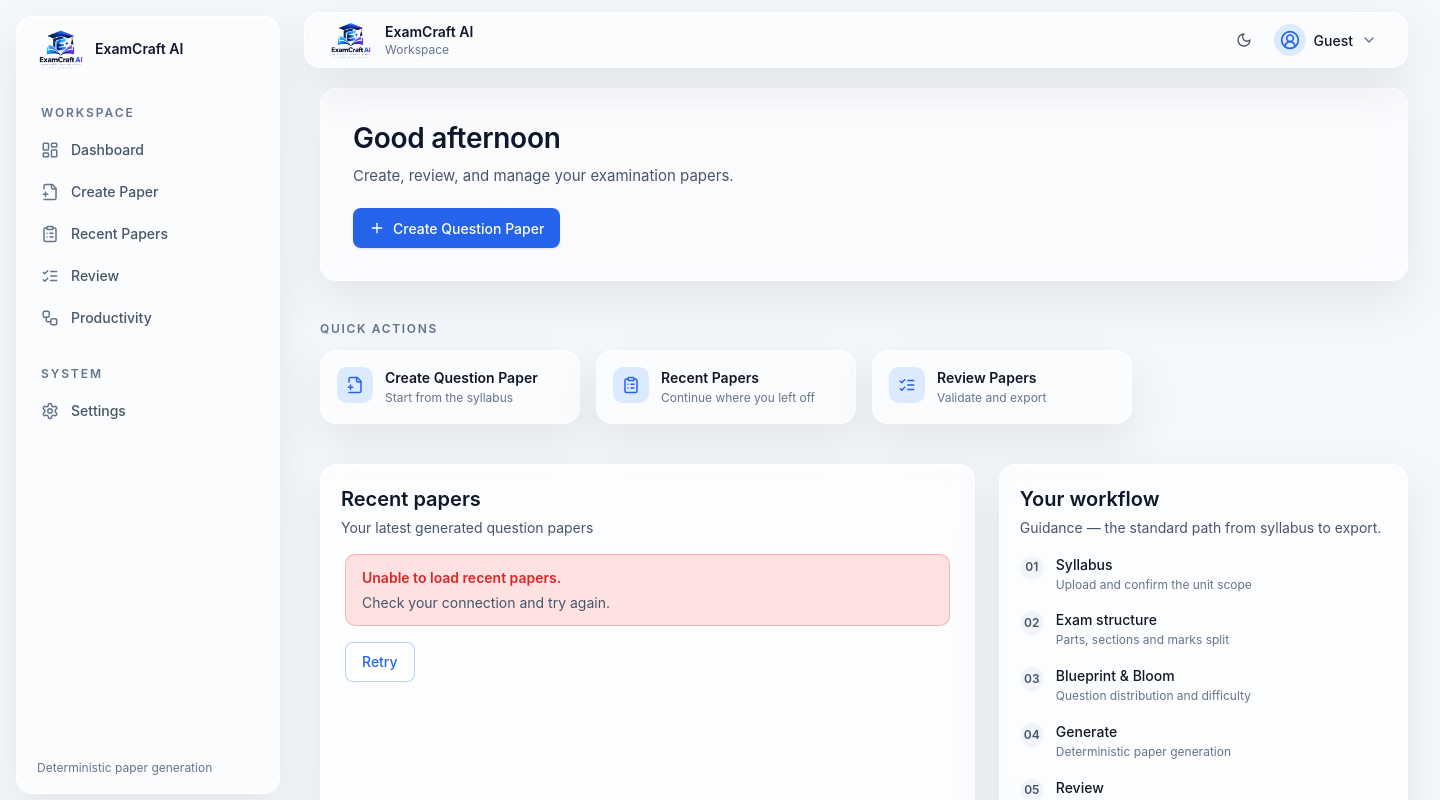
Test: retry after API failure loads the papers
Click the button "Retry" at (380, 662), box [345,642,415,682]
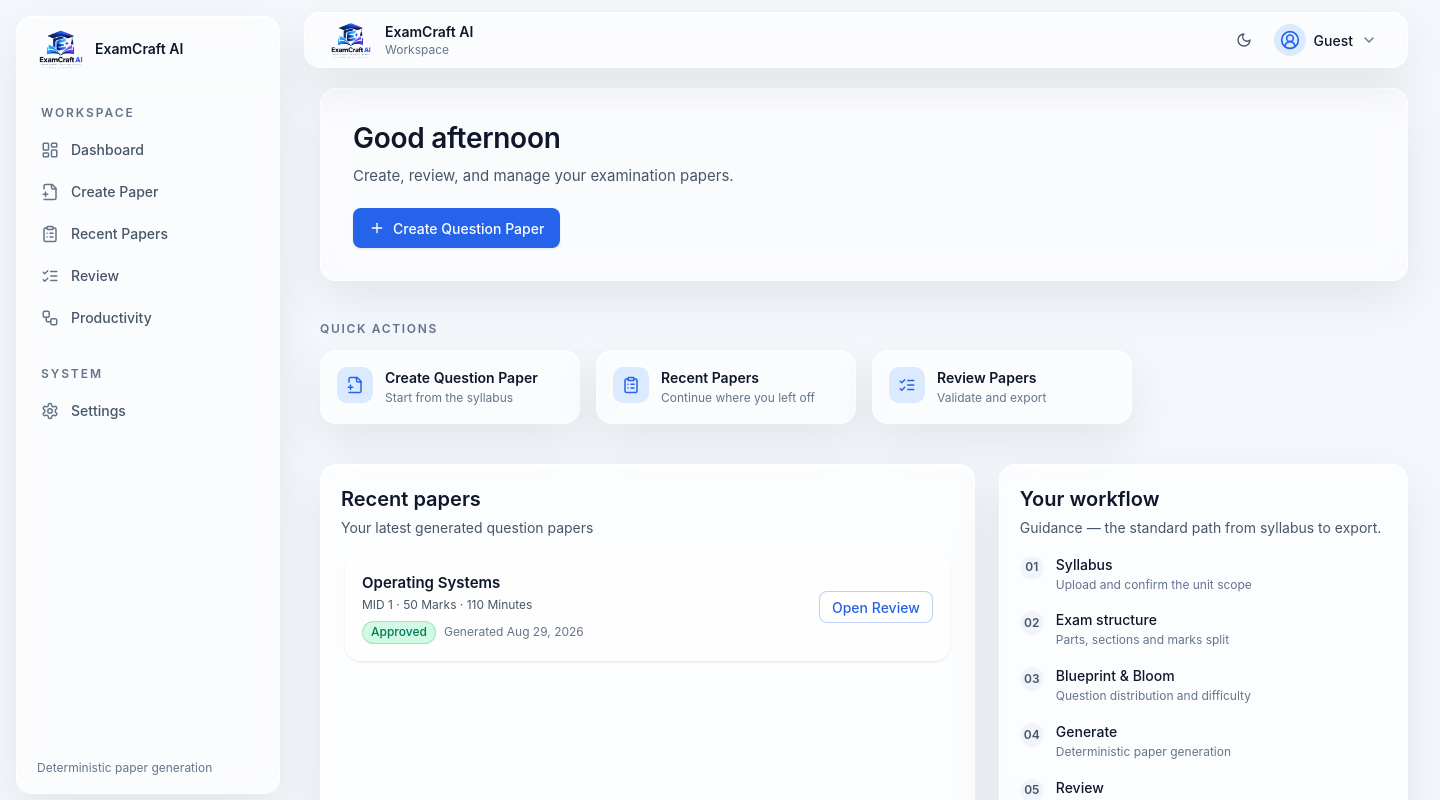
Result: the text "Operating Systems" is shown at [362,573,500,592]
